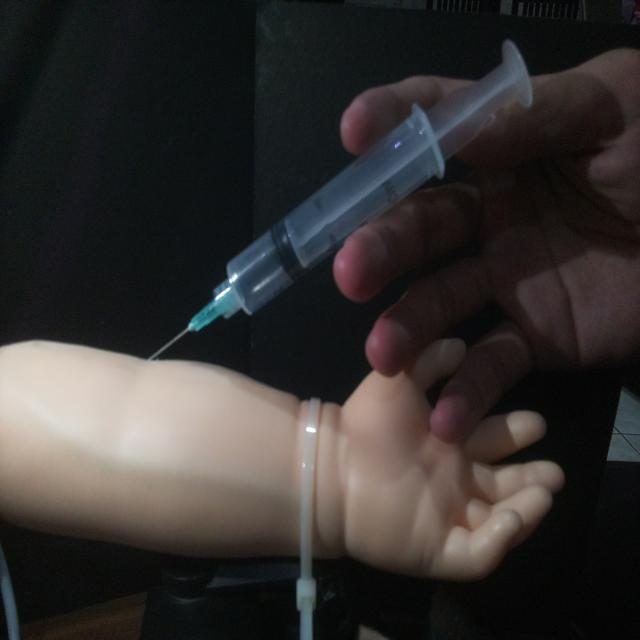25deg: (143, 36, 536, 363)
